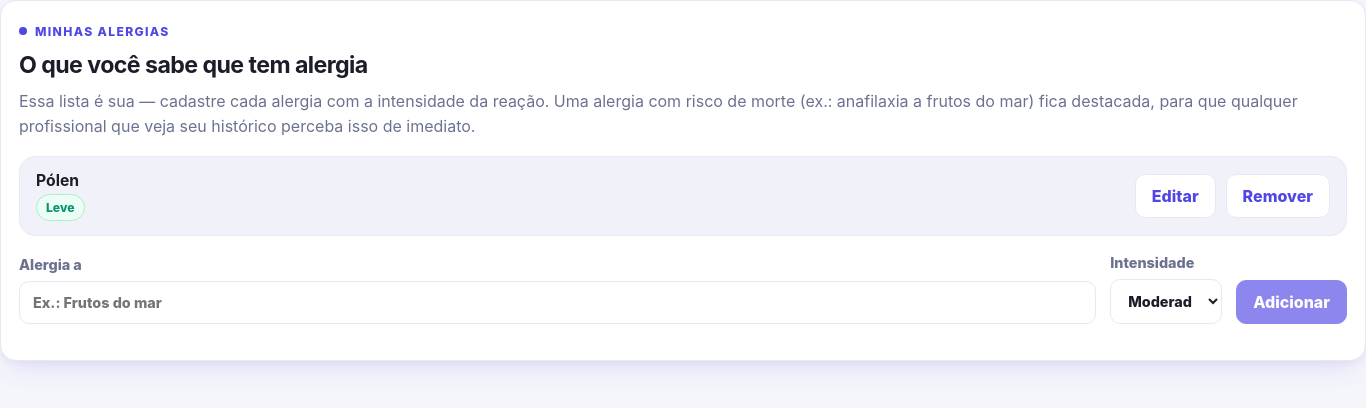
it: lista de alergias na anamnese › edita uma alergia existente
The width and height of the screenshot is (1366, 408).
Click the button "Editar": (1175, 196) [1135,174,1216,218]
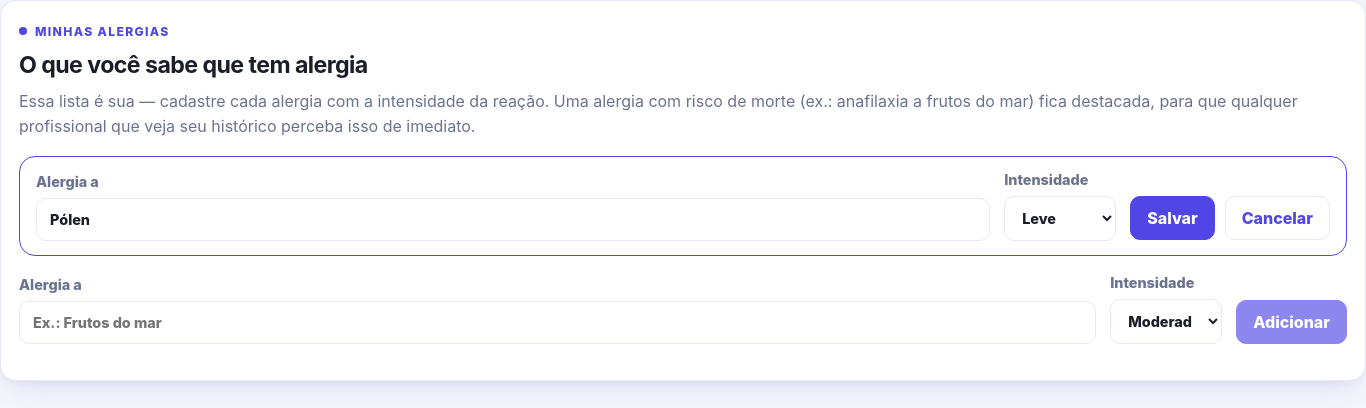
Replace the text in the field named "Nome da alergia" with "Pólen de gramíneas": (513, 220) [36,198,990,241]
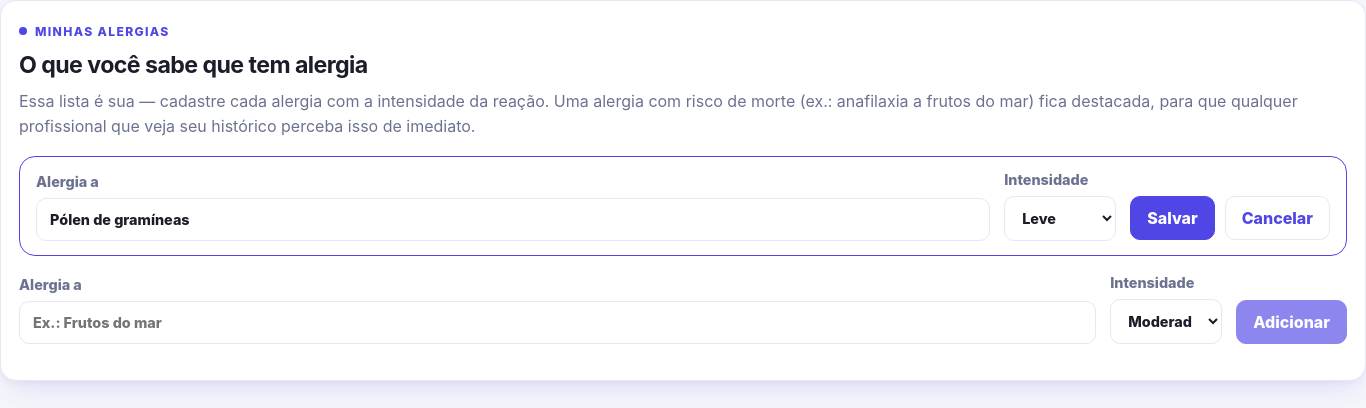
Click the button "Salvar": (1172, 218) [1130,196,1215,240]
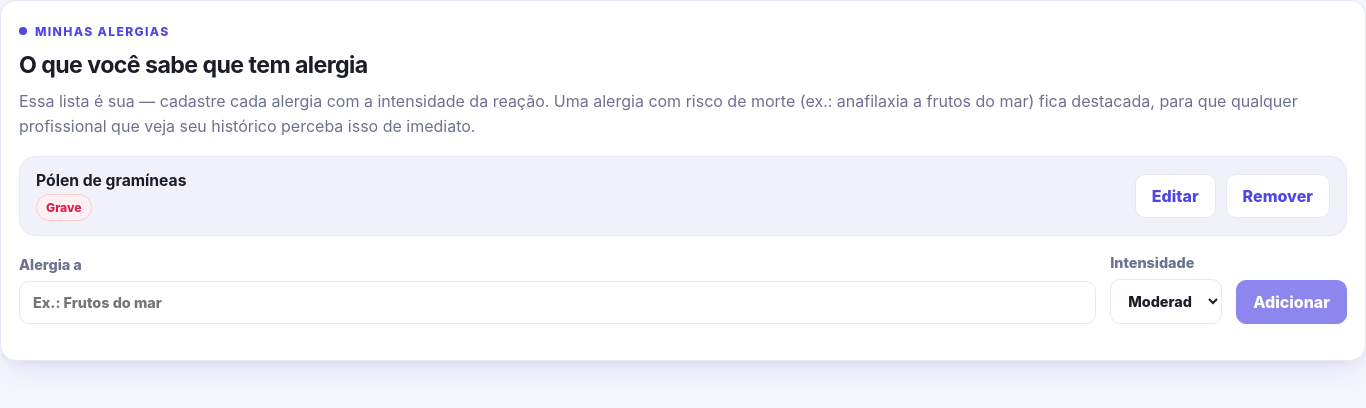
Expected: the text "Pólen de gramíneas" is shown, [36,171,186,190]
